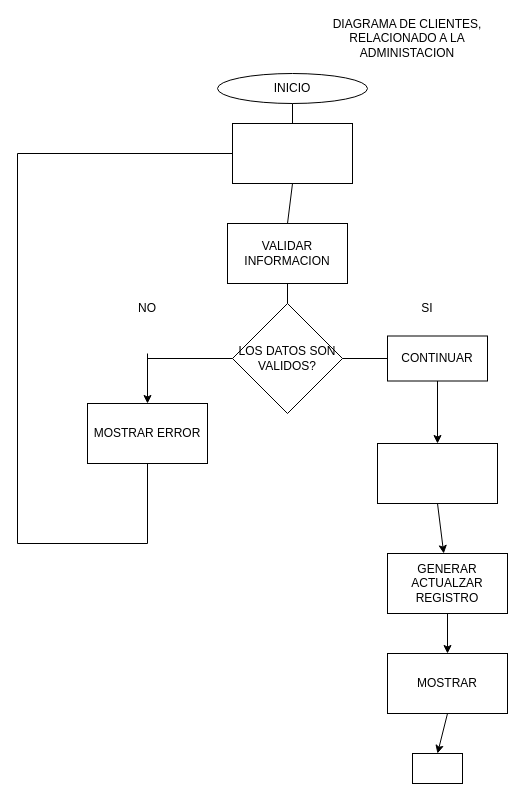
Image size: 525x801. Some labels were removed from this diagram. Each missing label, with the centre of its shape:
EL CLIENTE INTRODUCE SUS DATOS: point 292,153
FIN: point 437,768
GUARDAR CLIENTE: point 437,473
